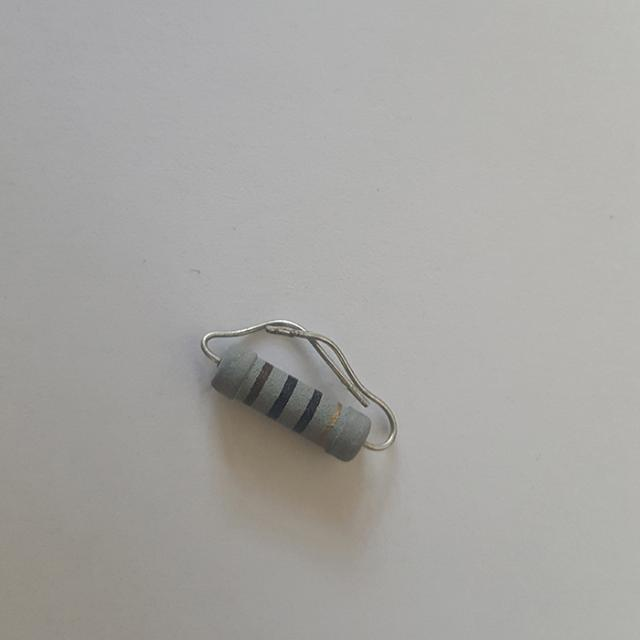blue: (267, 373, 295, 420), (293, 389, 321, 434)
brown: (244, 362, 271, 405)
gold: (318, 403, 340, 445)
resistor: (192, 332, 390, 486)
